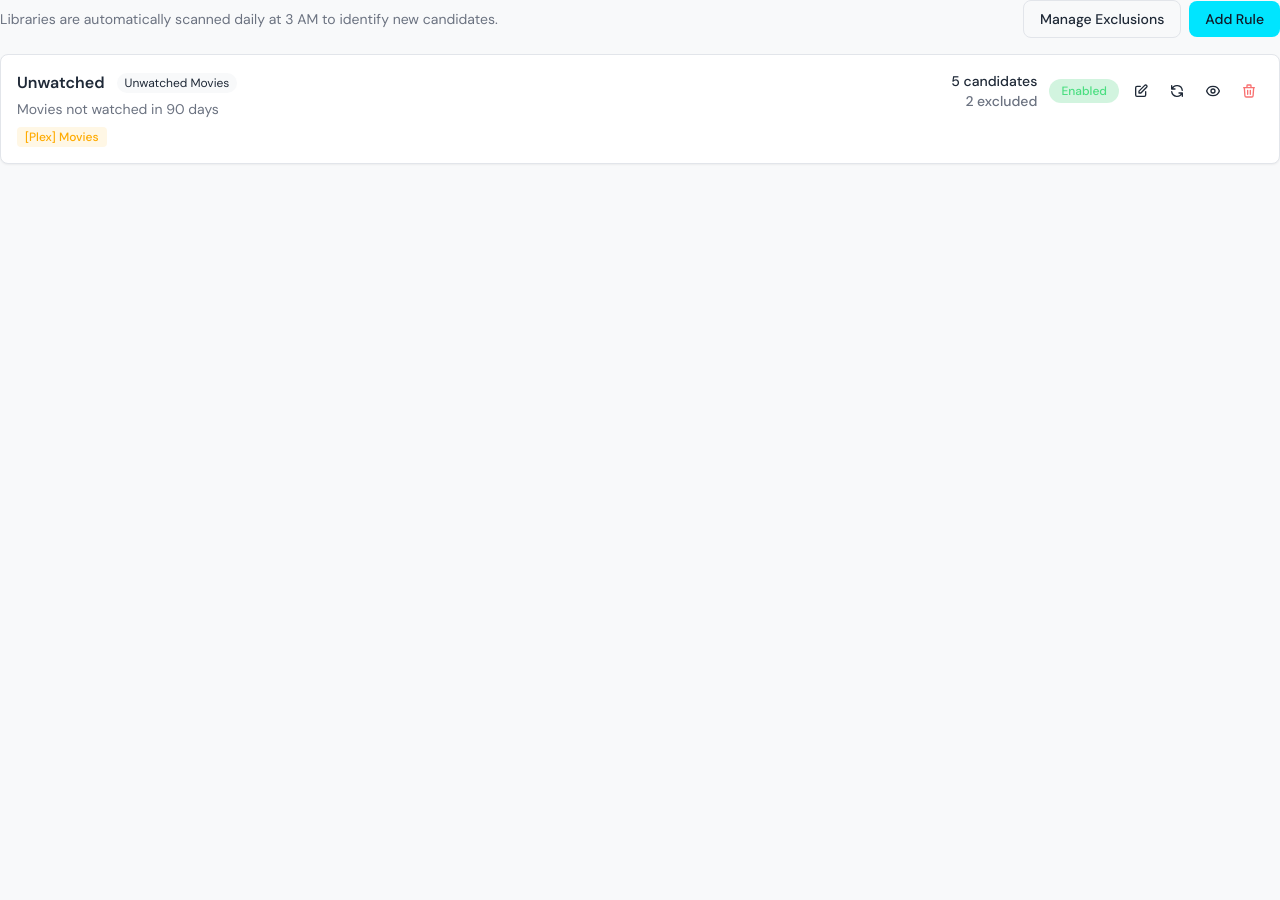
MaintenanceRulesTab clickable titles › CandidatesView › opens MediaDetailModal when title is clicked
Click the button "5 candidates".
click(994, 81)  # box left=951, top=71, right=1037, bottom=91
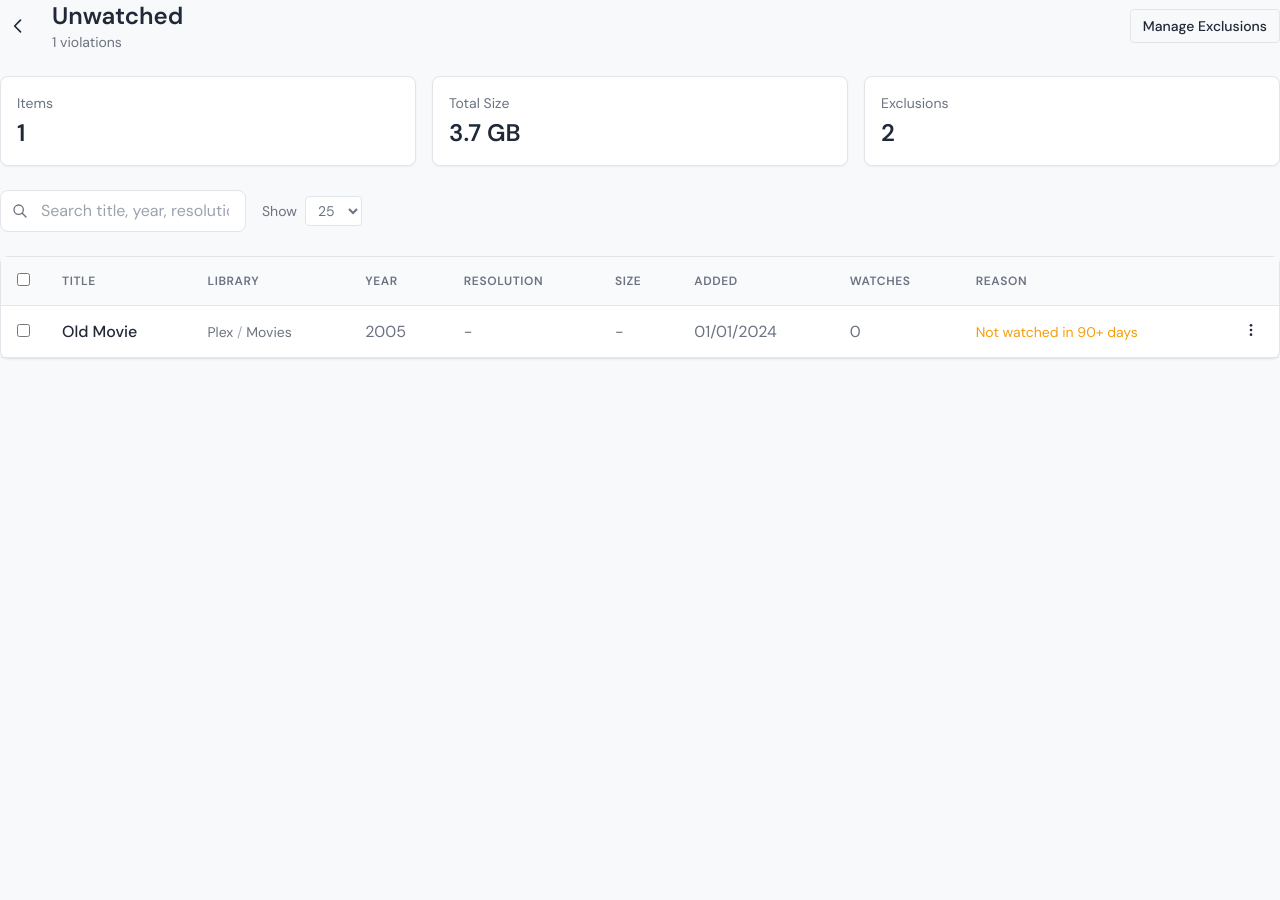
Now the button "Old Movie" is shown
Click the button with aria-label "View details for Old Movie".
click(100, 332)  # box left=62, top=320, right=137, bottom=344
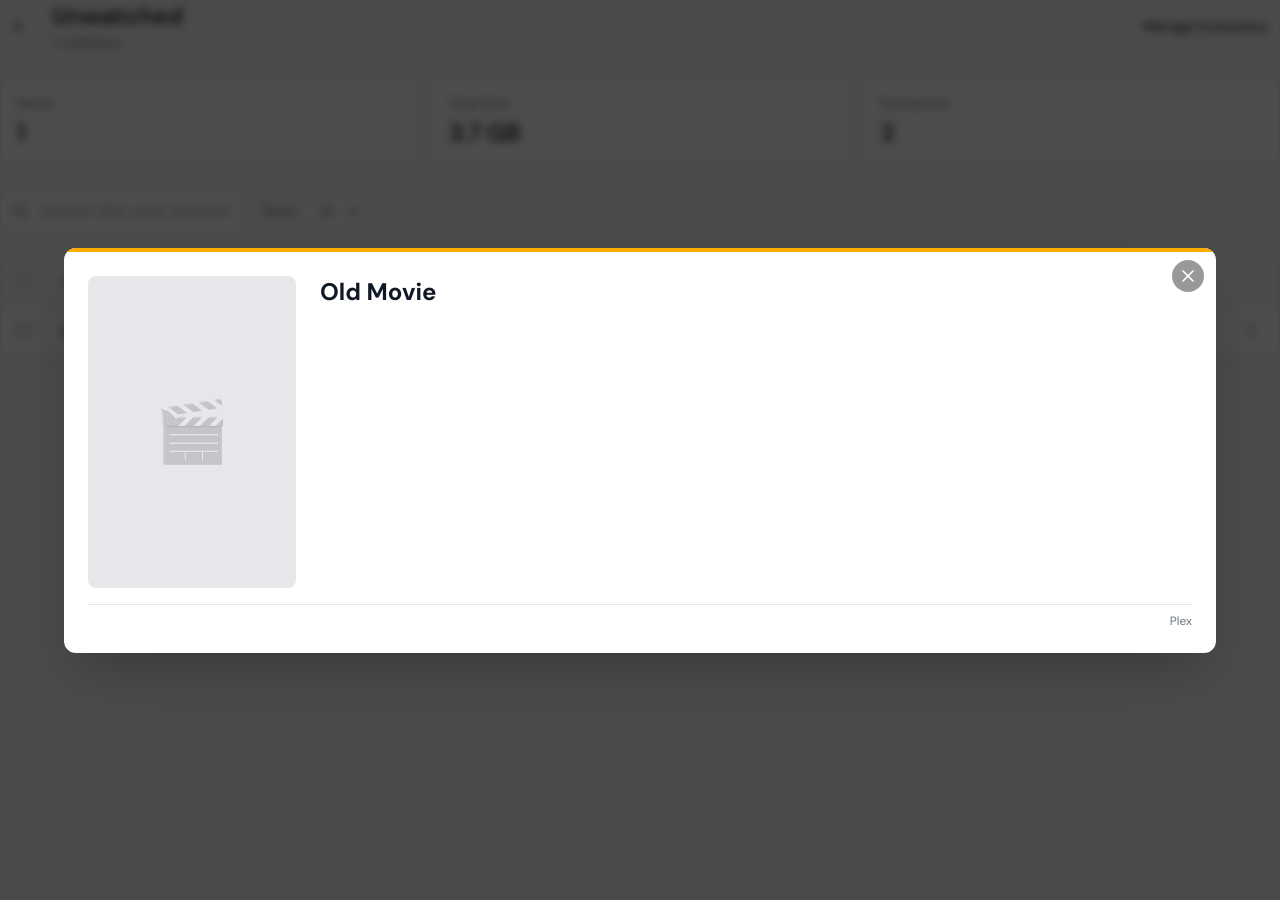
Now the dialog is shown
